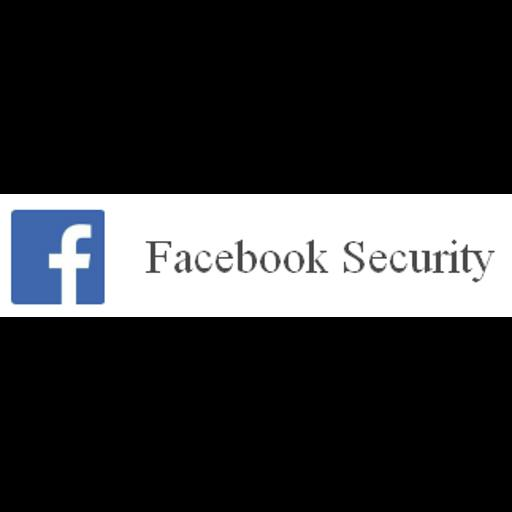Facebook: (0, 194, 512, 317)
